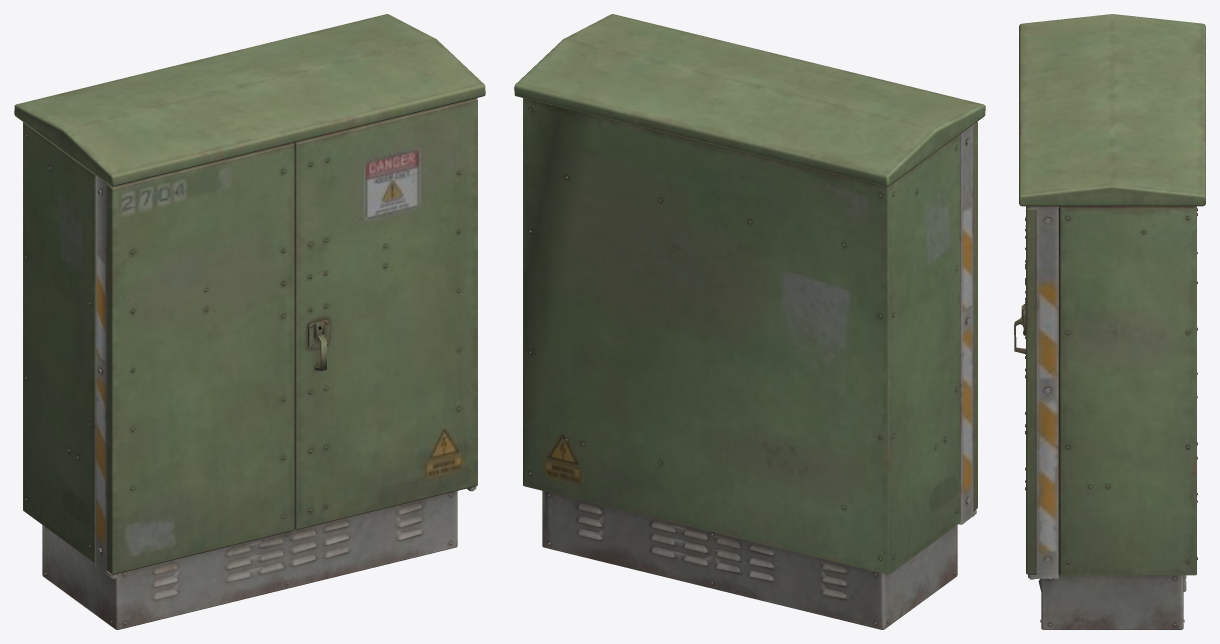
The model's file is utility_box_02.glb.
3 views of the same model, side by side, from view 1: azimuth 30°, elevation 25°; view 2: azimuth 150°, elevation 25°; view 3: azimuth 270°, elevation 25° (orthographic). The views are drawn at different scales.
Visible parts, largest first — view 1: utility_box_02; view 2: utility_box_02; view 3: utility_box_02.
Boxes of the visible parts, <box> form: utility_box_02: <box>14,14,485,629</box>; utility_box_02: <box>514,14,985,629</box>; utility_box_02: <box>1014,14,1205,629</box>.
Bounding box in the file's own units: 0.92 × 1.12 × 0.4312.
Materials: 1 (1 with a texture image).
